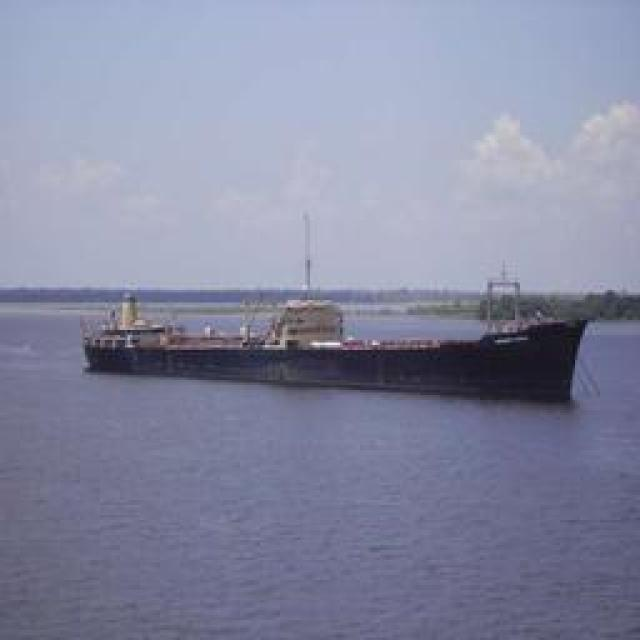CIV_Ship: (88, 301, 582, 394)
